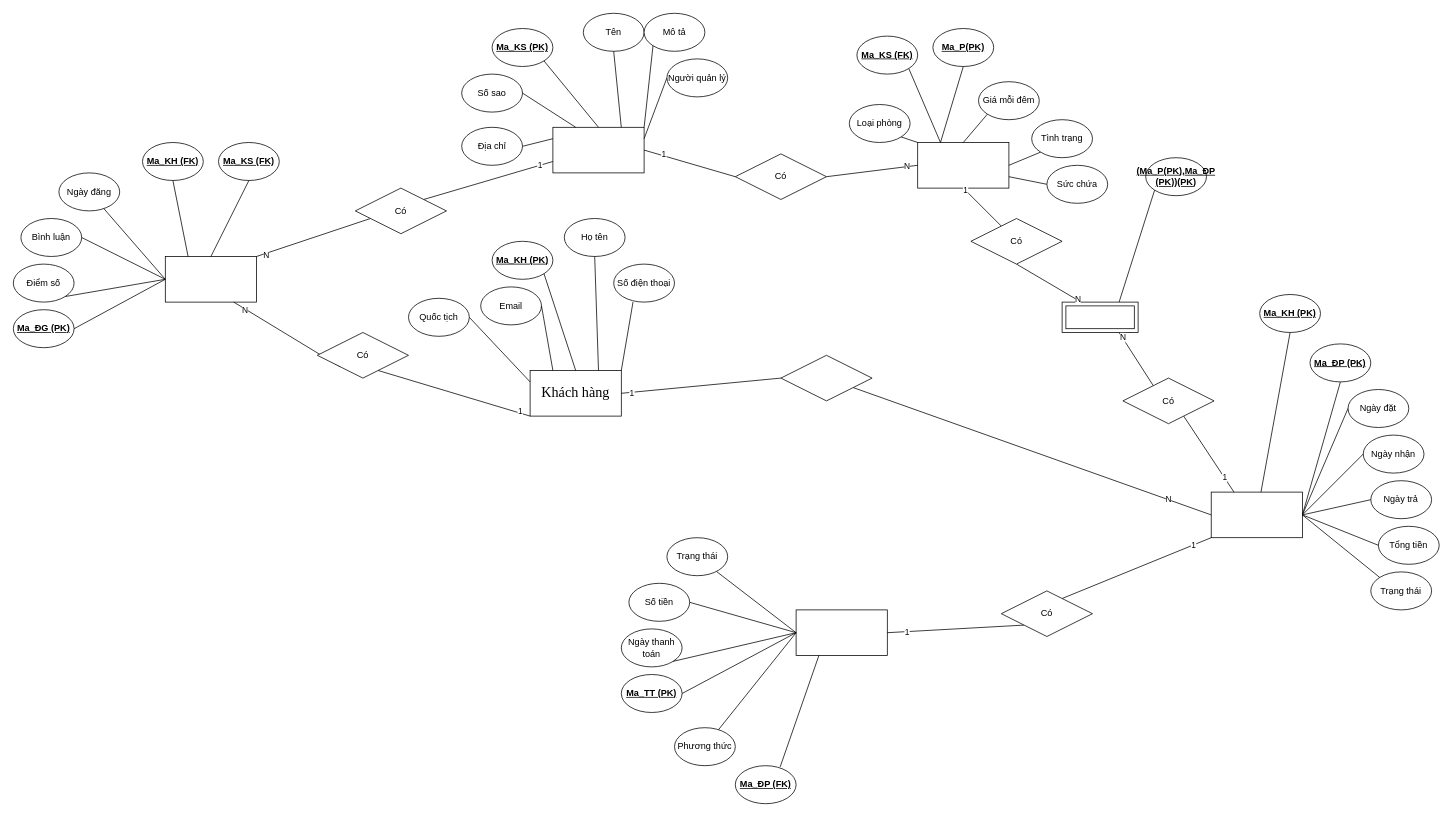
Some shapes in this 1453 by 817 pixel diagram are drawn without their labels. The shapes that lost their labels are listed below. From the top down, each one's centre as x and y in pixels, then its label:
At point 598,150: "Khách sạn".
At point 963,165: "Phòng".
At point 210,279: "Đánh giá".
At point 1099,316: "Chi tiết đặt phòng".
At point 826,378: "Đặt".
At point 1256,514: "Đặt phòng".
At point 841,632: "Thanh toán".
